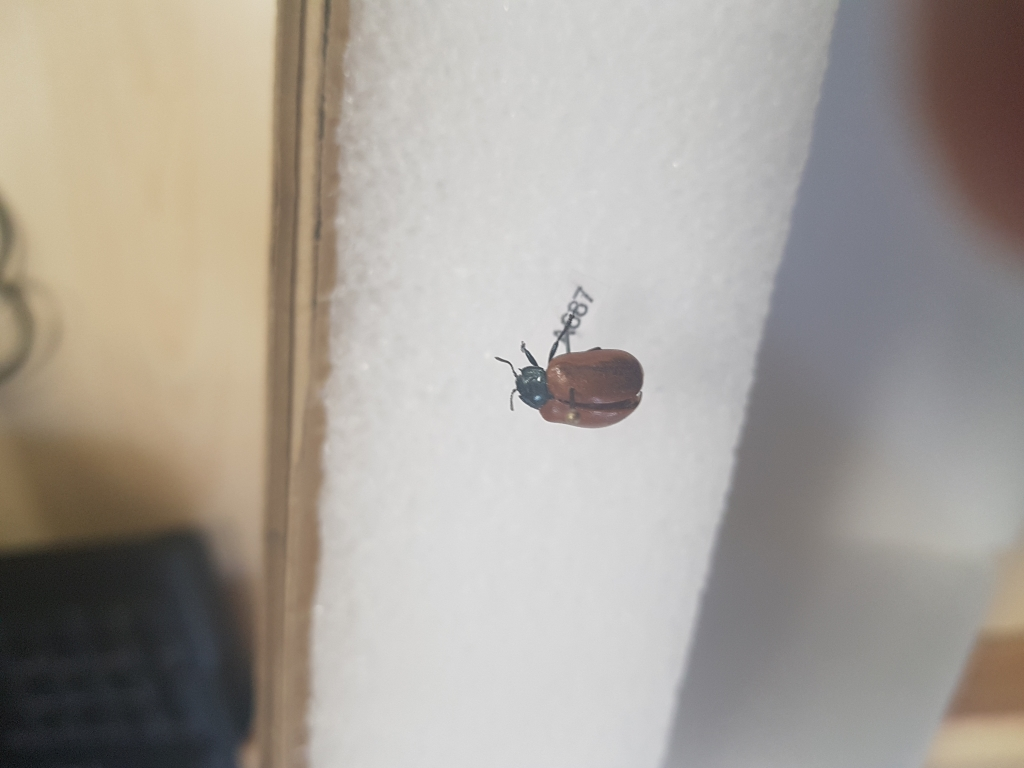Chrysomela_populi: (492, 334, 651, 433)
